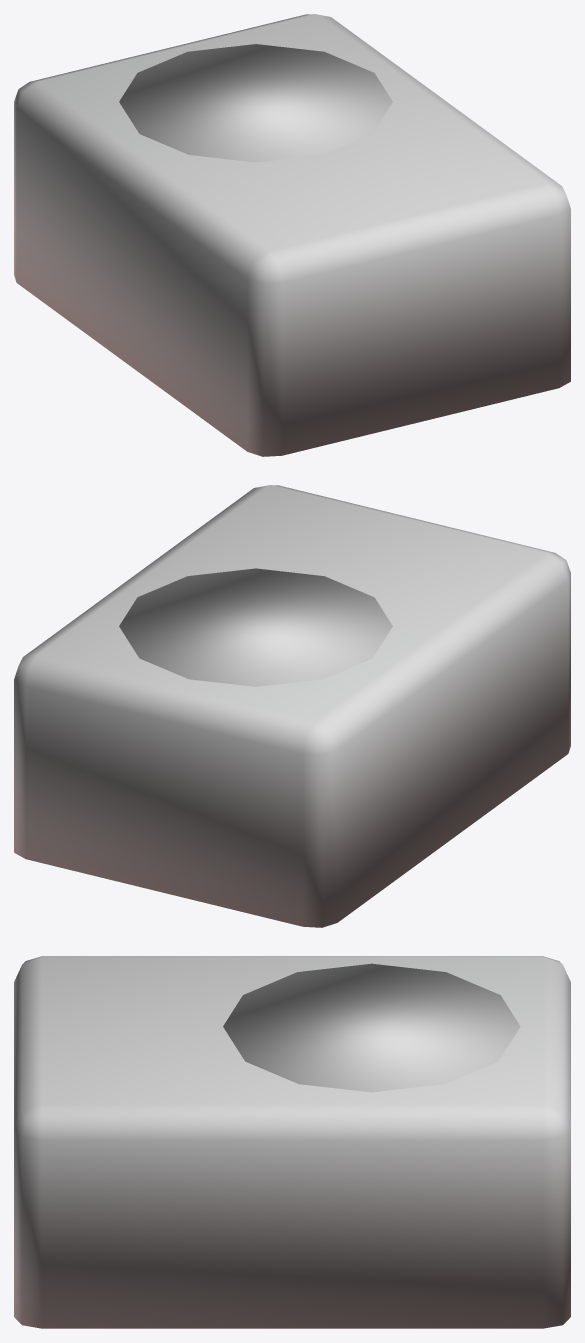
Rendered from Conditioner_001.fbx.
3 views of the same model, one above another, from view 1: azimuth 30°, elevation 25°; view 2: azimuth 150°, elevation 25°; view 3: azimuth 270°, elevation 25° (orthographic). The views are drawn at different scales.
Visible parts, largest first — view 1: Conditioner_001; view 2: Conditioner_001; view 3: Conditioner_001.
Boxes of the visible parts, bbox=[...] form: Conditioner_001: bbox=[14, 14, 570, 456]; Conditioner_001: bbox=[14, 485, 570, 927]; Conditioner_001: bbox=[14, 956, 570, 1328].
Size of the model in its own units: 110 by 151 by 65.07.
